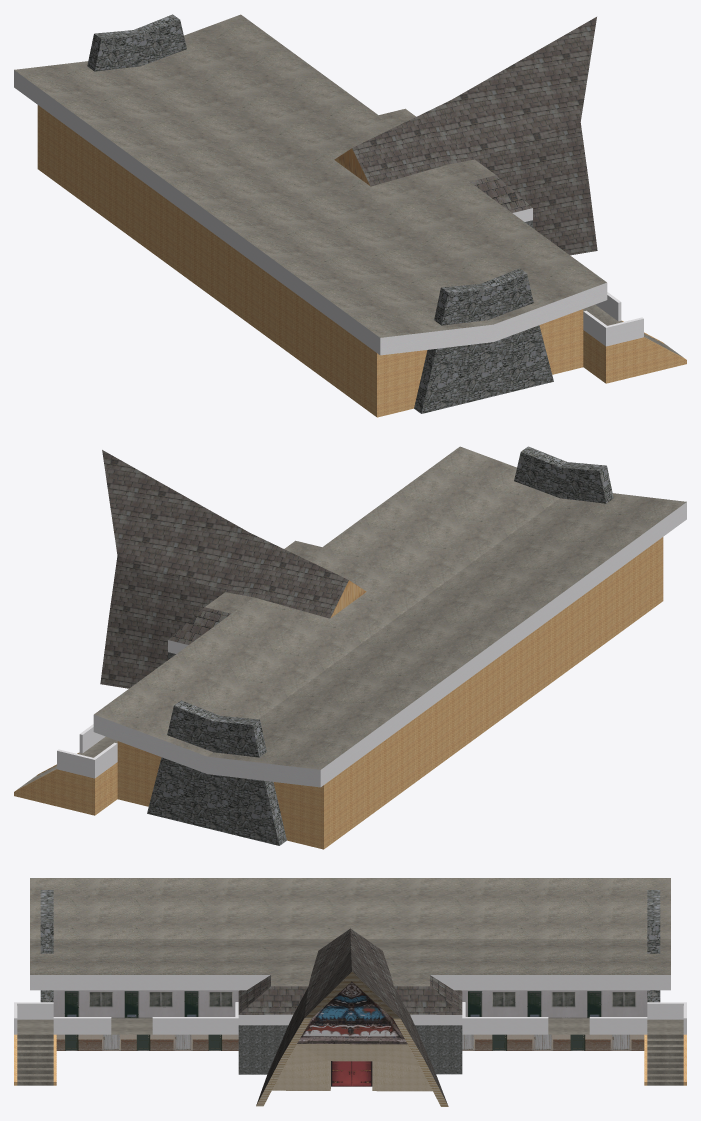
The model's file is tikimotel02_lvs.obj.
The picture shows the model from 3 angles, top to bottom: view 1: azimuth 30°, elevation 25°; view 2: azimuth 150°, elevation 25°; view 3: azimuth 270°, elevation 25°; orthographic projection. The views are drawn at different scales.
Parts seen in each view (by area): view 1: tikimotel02_lvs; view 2: tikimotel02_lvs; view 3: tikimotel02_lvs.
Part boxes in pixels (<box>): tikimotel02_lvs: <box>14,14,686,417</box>; tikimotel02_lvs: <box>14,446,686,849</box>; tikimotel02_lvs: <box>14,878,686,1106</box>.
Size of the model in its own units: 29.18 by 12.6 by 48.48.
Materials: 11 (11 with a texture image).
